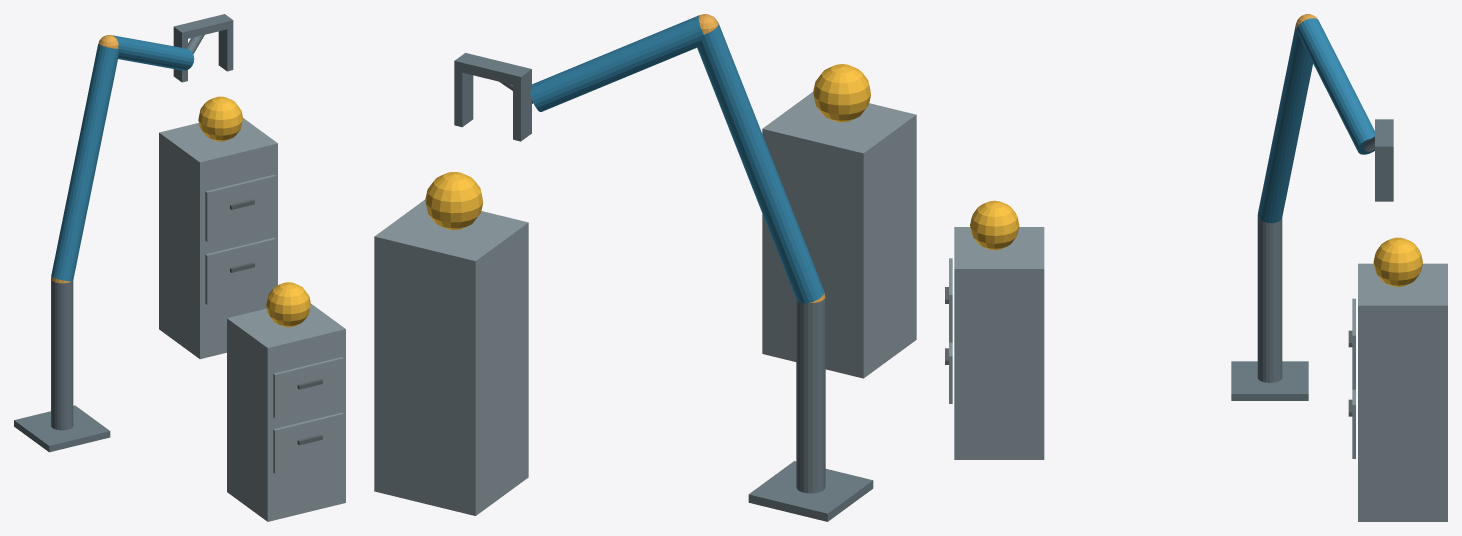
3 views of the same model, side by side, from view 1: azimuth 30°, elevation 25°; view 2: azimuth 150°, elevation 25°; view 3: azimuth 270°, elevation 25° (orthographic). The views are drawn at different scales.
Parts seen in each view (by area): view 1: cabinet_1 body, cabinet_2 body, moving link 1, cabinet_2 drawer front.001, cabinet_2 drawer front, fixed post, cabinet_1 drawer front, cabinet_1 drawer front.001, pedestal, moving link 2, released ball_1, ball ball_2 (+2 smaller); view 2: cabinet_2 body, cabinet_1 body, moving link 1, fixed post, moving link 2, pedestal, released ball_1, ball ball_2, gripper bridge, gripper finger -1, gripper finger 1; view 3: cabinet_2 body, cabinet_1 body, moving link 1, fixed post, moving link 2, pedestal, ball ball_2, released ball_1, gripper finger 1, gripper bridge.
Part boxes in pixels (x1,y1,x2,y2): cabinet_1 body: (227,304,345,521); cabinet_2 body: (159,118,277,359); moving link 1: (51,44,118,281); cabinet_2 drawer front.001: (205,175,275,241); cabinet_2 drawer front: (205,238,275,304); fixed post: (51,280,73,430); cabinet_1 drawer front: (273,412,343,473); cabinet_1 drawer front.001: (273,357,343,418); pedestal: (14,405,110,452); moving link 2: (112,35,194,70); released ball_1: (266,282,310,327); ball ball_2: (198,96,242,141); cabinet_2 body: (374,199,528,515); cabinet_1 body: (762,92,916,378); moving link 1: (697,23,824,303); fixed post: (796,296,825,493); moving link 2: (530,15,703,111); pedestal: (748,461,873,521); released ball_1: (813,64,870,122); ball ball_2: (425,172,483,229); gripper bridge: (454,53,531,86); gripper finger -1: (513,79,531,141); gripper finger 1: (454,71,473,127); cabinet_2 body: (1358,263,1447,521); cabinet_1 body: (954,227,1044,459); moving link 1: (1257,23,1312,223); fixed post: (1257,217,1282,382); moving link 2: (1297,18,1374,154); pedestal: (1231,361,1308,400); ball ball_2: (1373,237,1422,286); released ball_1: (970,200,1019,250); gripper finger 1: (1375,155,1393,201); gripper bridge: (1375,119,1393,155).
Bounding box in the file's own units: 1.17 × 1.44 × 1.62.
